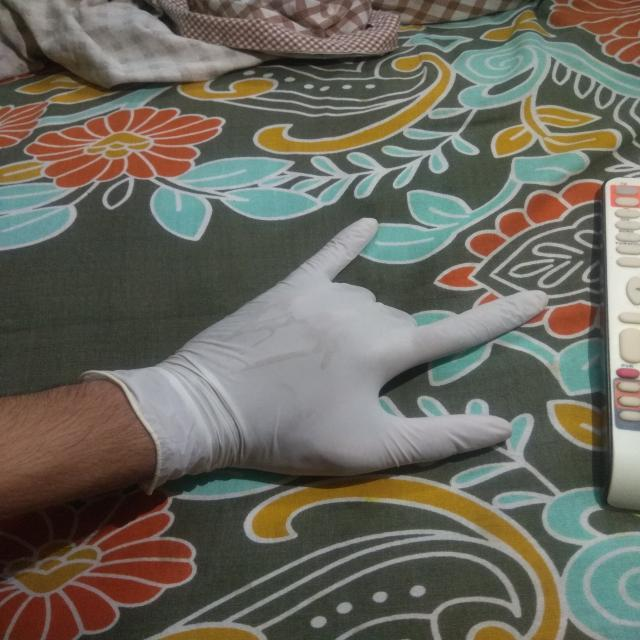glove_hand: (72, 212, 554, 523)
